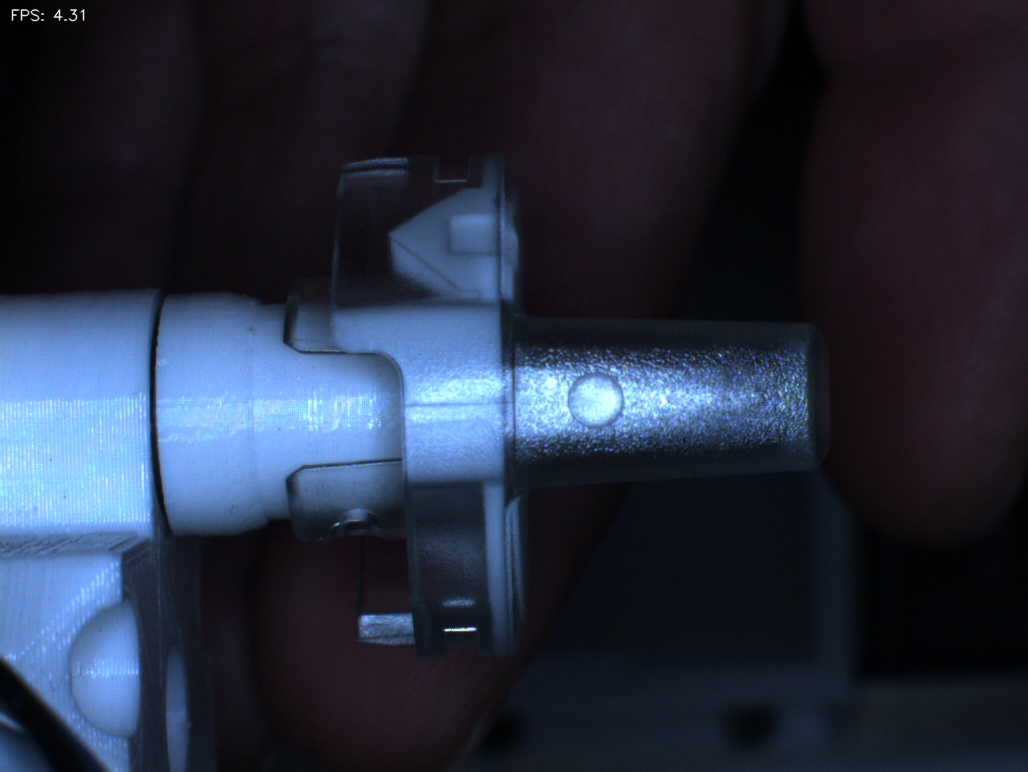DentOk: (357, 197, 442, 301)
